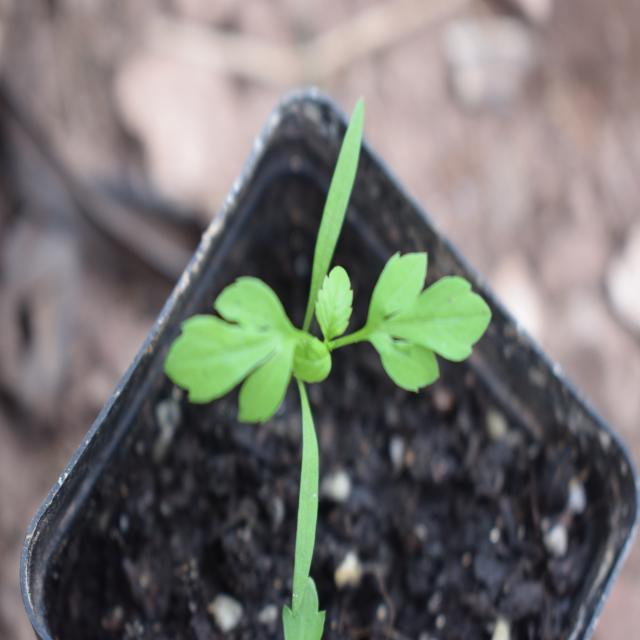Bidens pilosa: (178, 110, 498, 509)
